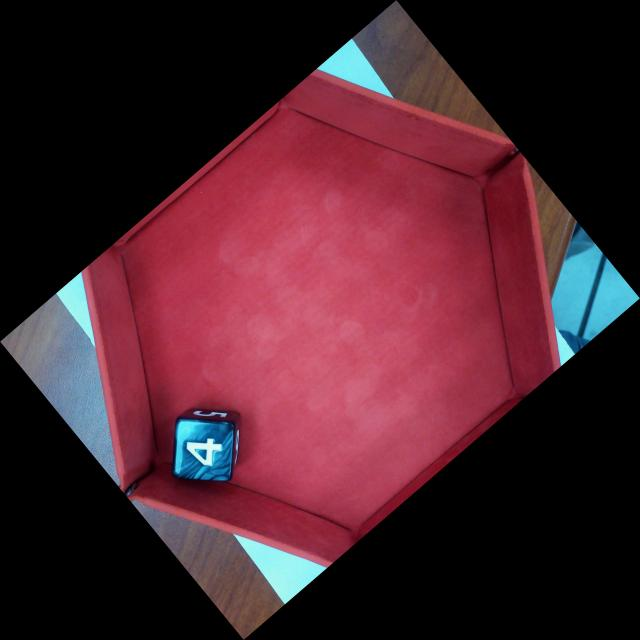dice: (178, 422, 232, 482)
